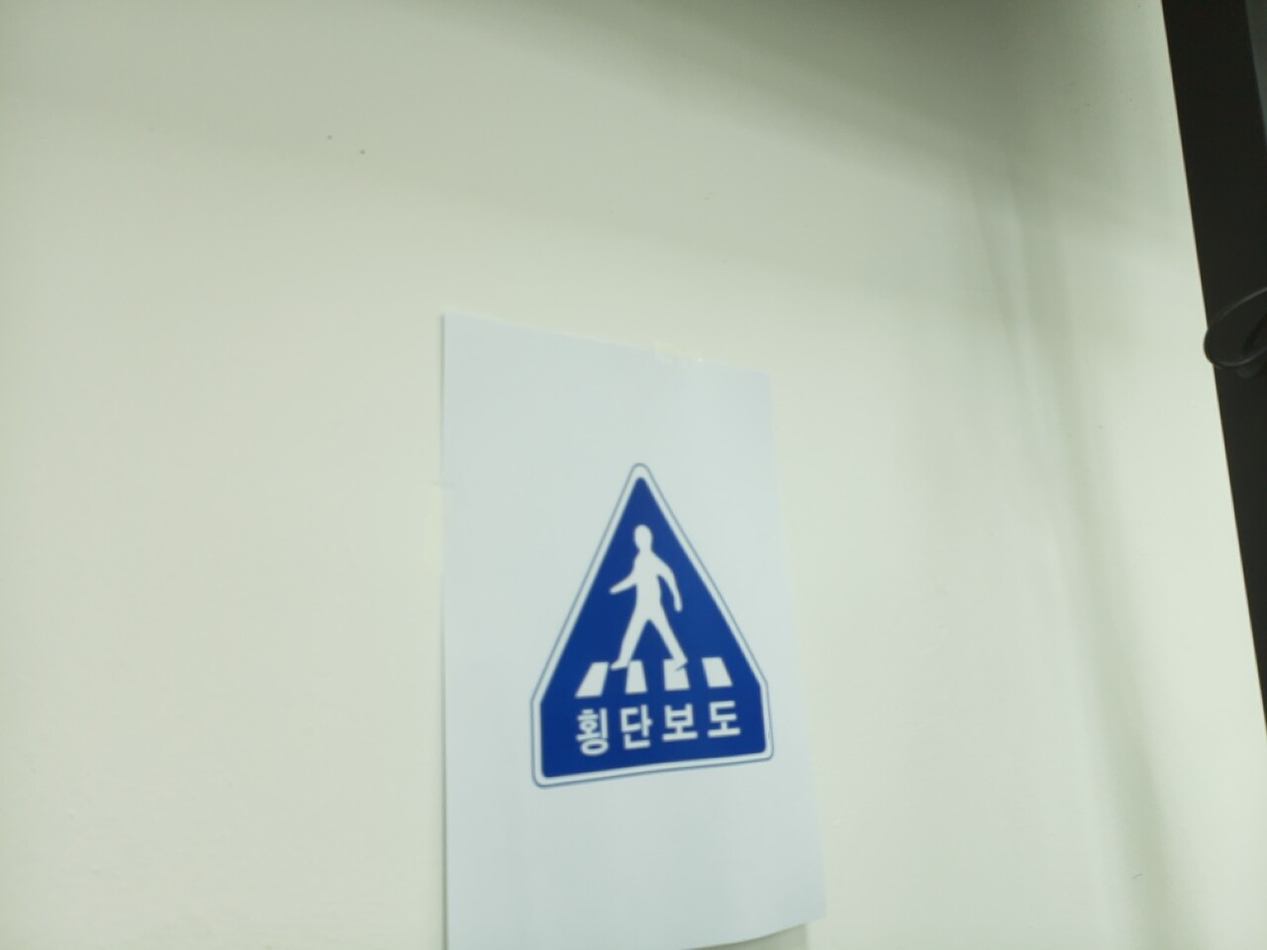crosswalk: (532, 467, 774, 788)
